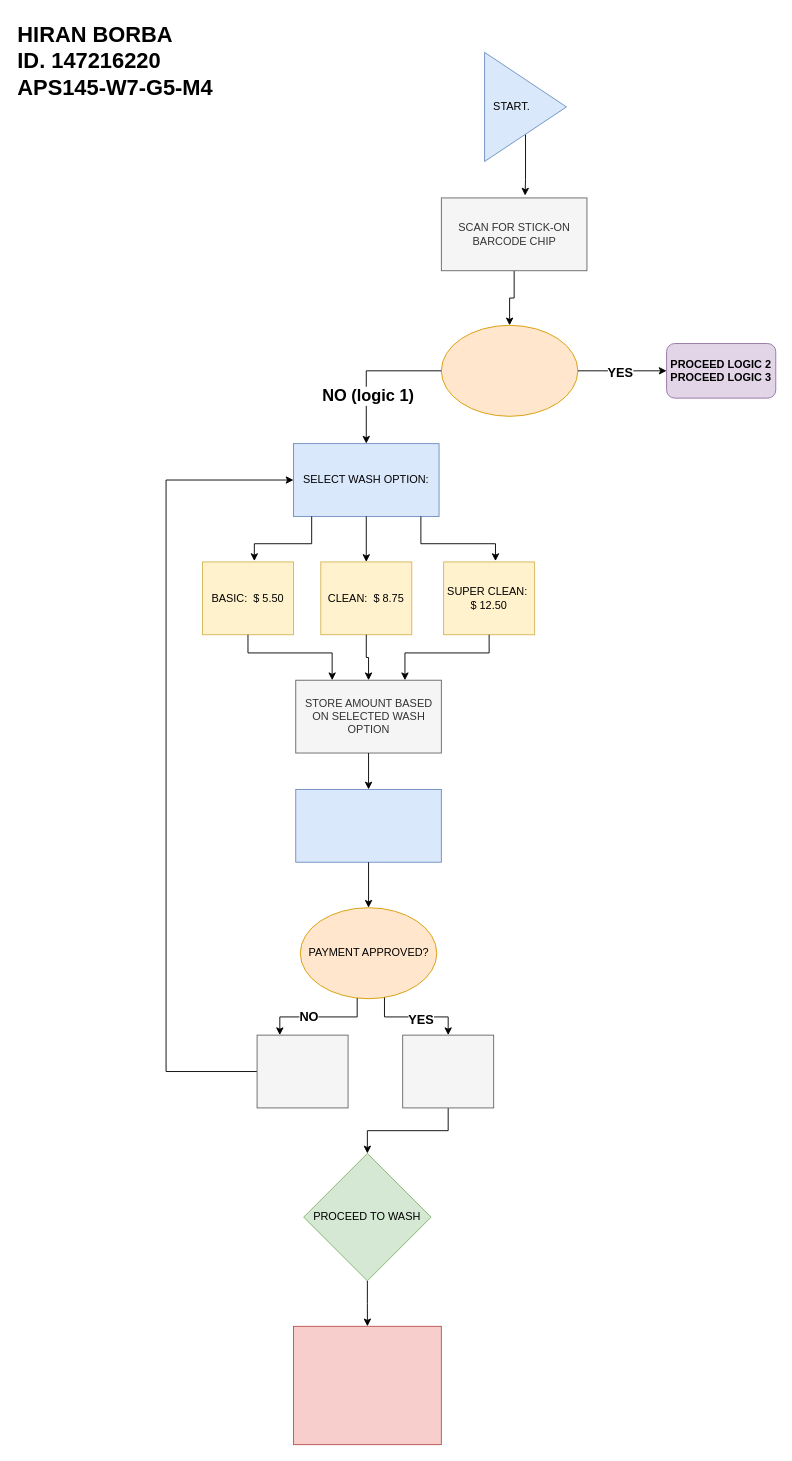
The diagram is 792 pixels wide and 1461 high, and some of its shapes have lost their labels. The centre of each missing label's shape, as x and y in pixels:
"END" belongs at point (367, 1385).
"IS A MONTHLY CUSTOMER MEMBER?" belongs at point (509, 370).
"PRINT RECEIPT" belongs at point (448, 1071).
"RESTART PROCESS" belongs at point (302, 1071).
"START PROCESS CARD PAYMENT (NO CASH AVAILABLE)" belongs at point (368, 825).
